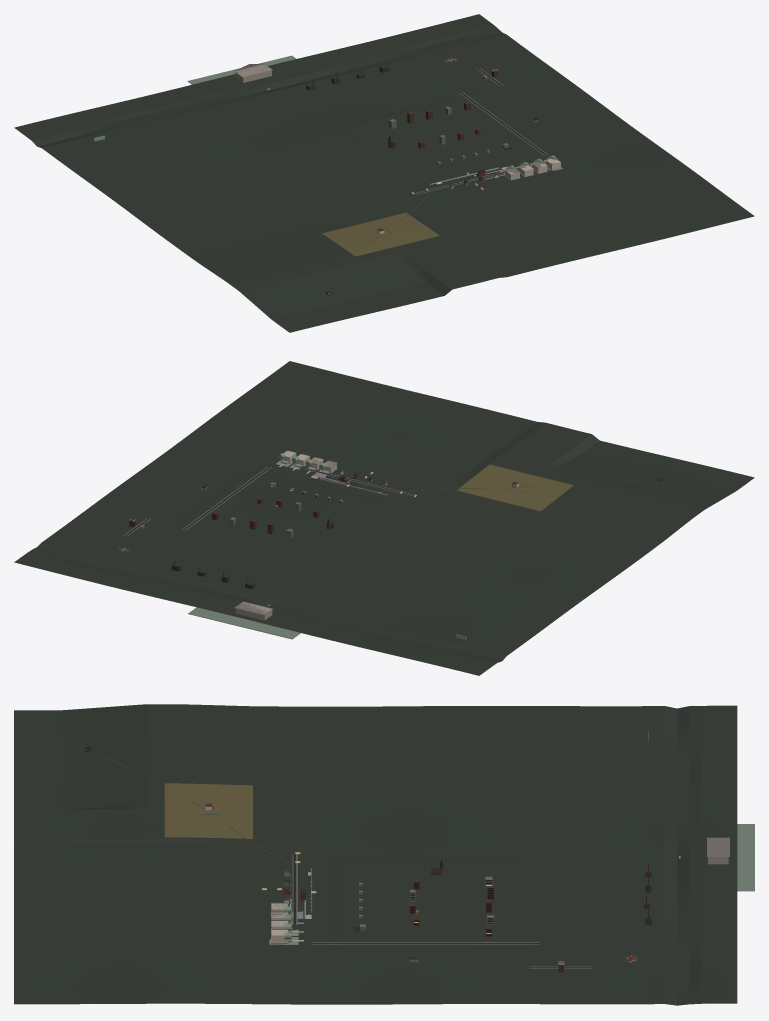
Rendered from rock-springs-jackies-window-ch1-8.glb.
3 renders of one model, top to bottom at view 1: azimuth 30°, elevation 25°; view 2: azimuth 150°, elevation 25°; view 3: azimuth 270°, elevation 25°, orthographic. The views are drawn at different scales.
Parts seen in each view (by area): view 1: PRESENTATION_Glacial_Terrain, PRESENTATION_Chalmers_Field_Surface; view 2: PRESENTATION_Glacial_Terrain, PRESENTATION_Chalmers_Field_Surface, CANON_Southern_Illinois_State_University_Ground; view 3: PRESENTATION_Glacial_Terrain, PRESENTATION_Chalmers_Field_Surface, CANON_Southern_Illinois_State_University_Ground.
Part boxes in pixels (<box>): PRESENTATION_Glacial_Terrain: <box>14,14,754,332</box>; PRESENTATION_Chalmers_Field_Surface: <box>322,212,439,256</box>; PRESENTATION_Glacial_Terrain: <box>14,361,754,675</box>; PRESENTATION_Chalmers_Field_Surface: <box>457,464,573,511</box>; CANON_Southern_Illinois_State_University_Ground: <box>188,607,300,639</box>; PRESENTATION_Glacial_Terrain: <box>14,704,737,1005</box>; PRESENTATION_Chalmers_Field_Surface: <box>164,783,252,838</box>; CANON_Southern_Illinois_State_University_Ground: <box>737,824,754,891</box>.
Bounding box in the file's own units: 1158 × 36.94 × 1217.
